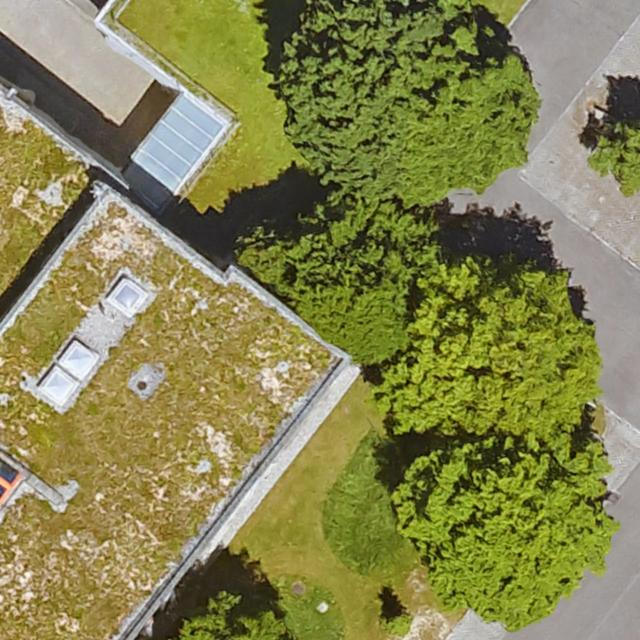tree: (287, 0, 537, 190), (395, 442, 615, 626), (398, 265, 599, 440), (293, 198, 440, 361), (175, 587, 287, 640), (230, 219, 298, 300), (588, 119, 640, 196), (382, 609, 415, 639)
